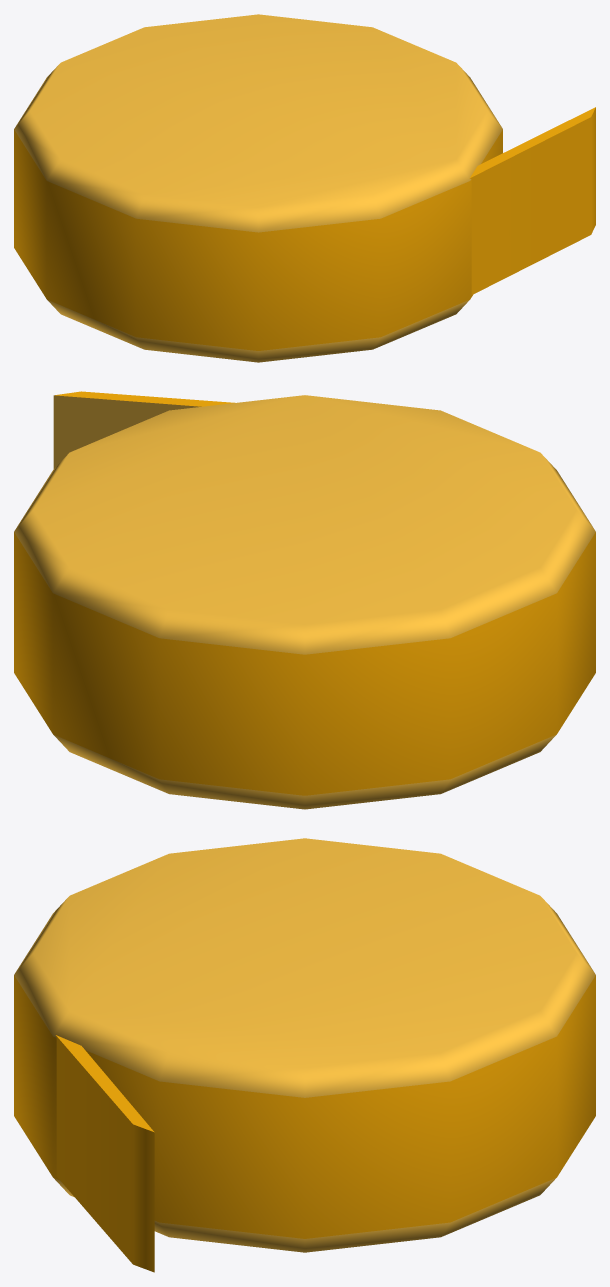
The model's file is Final_Tickets.fbx.
3 renders of one model, top to bottom at view 1: azimuth 30°, elevation 25°; view 2: azimuth 150°, elevation 25°; view 3: azimuth 270°, elevation 25°, orthographic. The views are drawn at different scales.
Parts seen in each view (by area): view 1: stock_cash_bobbin; view 2: stock_cash_bobbin; view 3: stock_cash_bobbin.
Part boxes in pixels (left/top/right/bottom): stock_cash_bobbin: left=14, top=14, right=595, bottom=362; stock_cash_bobbin: left=14, top=391, right=595, bottom=809; stock_cash_bobbin: left=14, top=838, right=595, bottom=1272.
Bounding box in the file's own units: 46.2 × 14.1 × 40.26.
